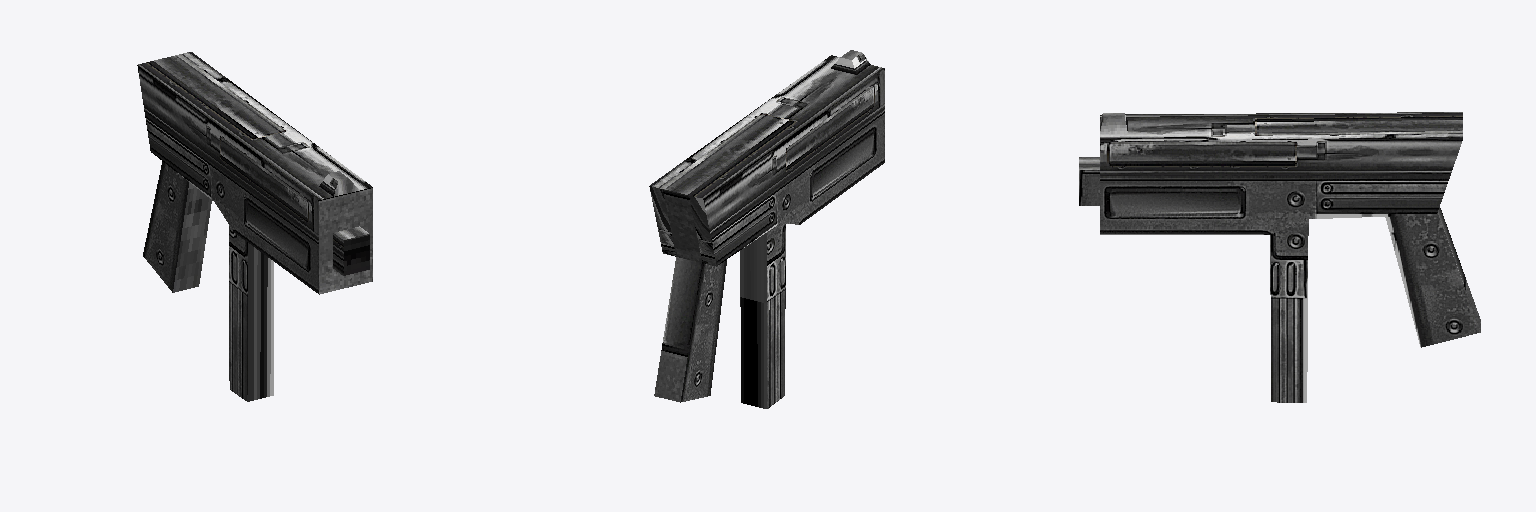
The picture shows the model from 3 angles: view 1: azimuth 30°, elevation 25°; view 2: azimuth 150°, elevation 25°; view 3: azimuth 270°, elevation 25°; orthographic projection.
Parts seen in each view (by area): view 1: Cube; view 2: Cube; view 3: Cube.
Boxes of the visible parts, x1,y1,x2,y2 form: Cube: [137, 52, 372, 401]; Cube: [649, 50, 884, 408]; Cube: [1079, 112, 1480, 402].
Size of the model in its own units: 0.6 by 2.98 by 3.86.
Materials: 1 (1 with a texture image).